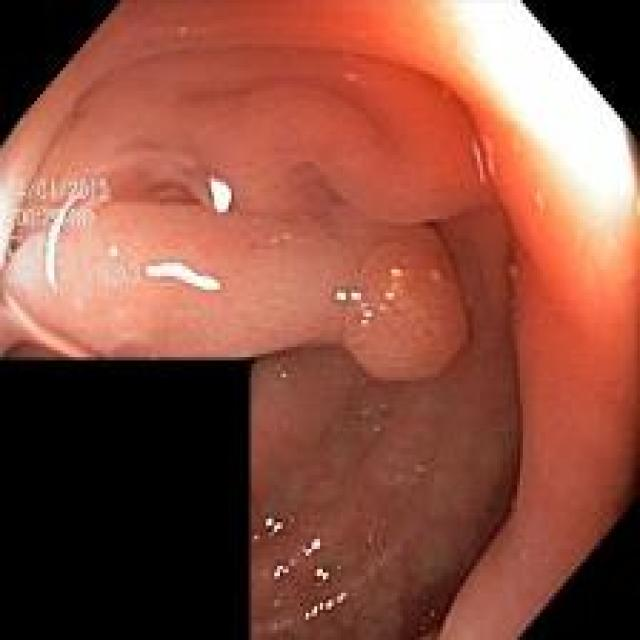Polyps: (344, 225, 469, 380)
